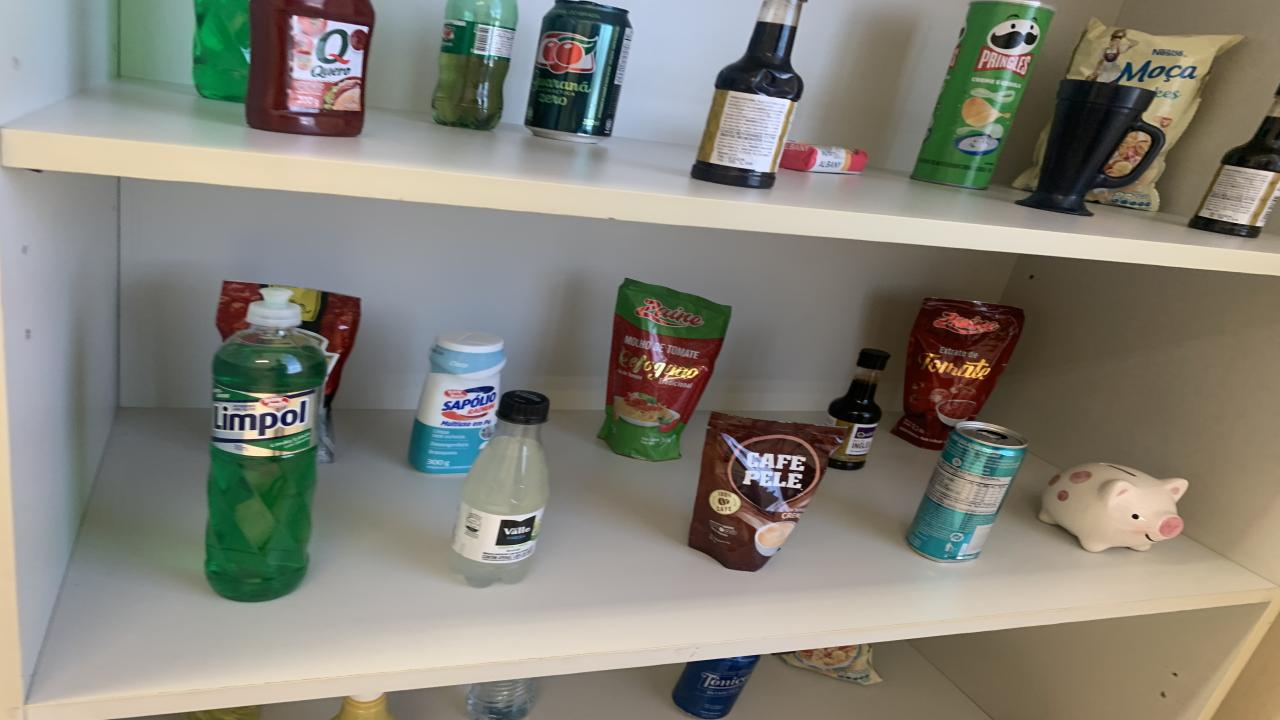Cleaner-Cleanup_Items: (410, 332, 505, 472)
Coffee-Pantry_Items: (688, 412, 842, 572)
Detergent-Cleanup_Items: (205, 287, 328, 602), (192, 0, 250, 103), (185, 705, 260, 720)
English_Sauce-Pantry_Items: (690, 0, 805, 188), (1190, 88, 1280, 236), (828, 349, 890, 471)
Flakes-Snacks: (1065, 19, 1242, 212), (780, 645, 882, 684), (1012, 126, 1050, 191), (1105, 133, 1150, 176)
Guarana-Drinks: (432, 0, 518, 129)
Guarana_Can-Drinks: (525, 0, 632, 142)
Ketchup-Pantry_Items: (245, 0, 375, 137)
Mustard-Pantry_Items: (332, 692, 392, 720)
Pig_Safe-Miscellaneous: (1038, 463, 1188, 551)
Pringles-Snacks: (910, 0, 1055, 189)
Soap-Cleanup_Items: (780, 142, 868, 174)
Soda-Drinks: (450, 392, 550, 587)
Tea-Drinks: (908, 422, 1028, 562)
Tomato_Sauce-Pantry_Items: (598, 278, 730, 461), (892, 298, 1025, 450), (285, 287, 360, 405), (215, 281, 268, 339)
Tonic-Drinks: (672, 654, 760, 718)
Water_Bottle-Drinks: (468, 679, 532, 718)
